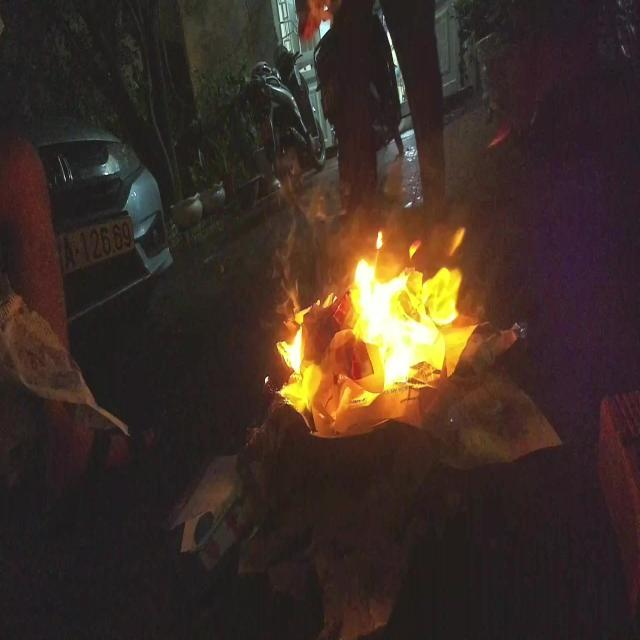Fire: (265, 155, 482, 430)
